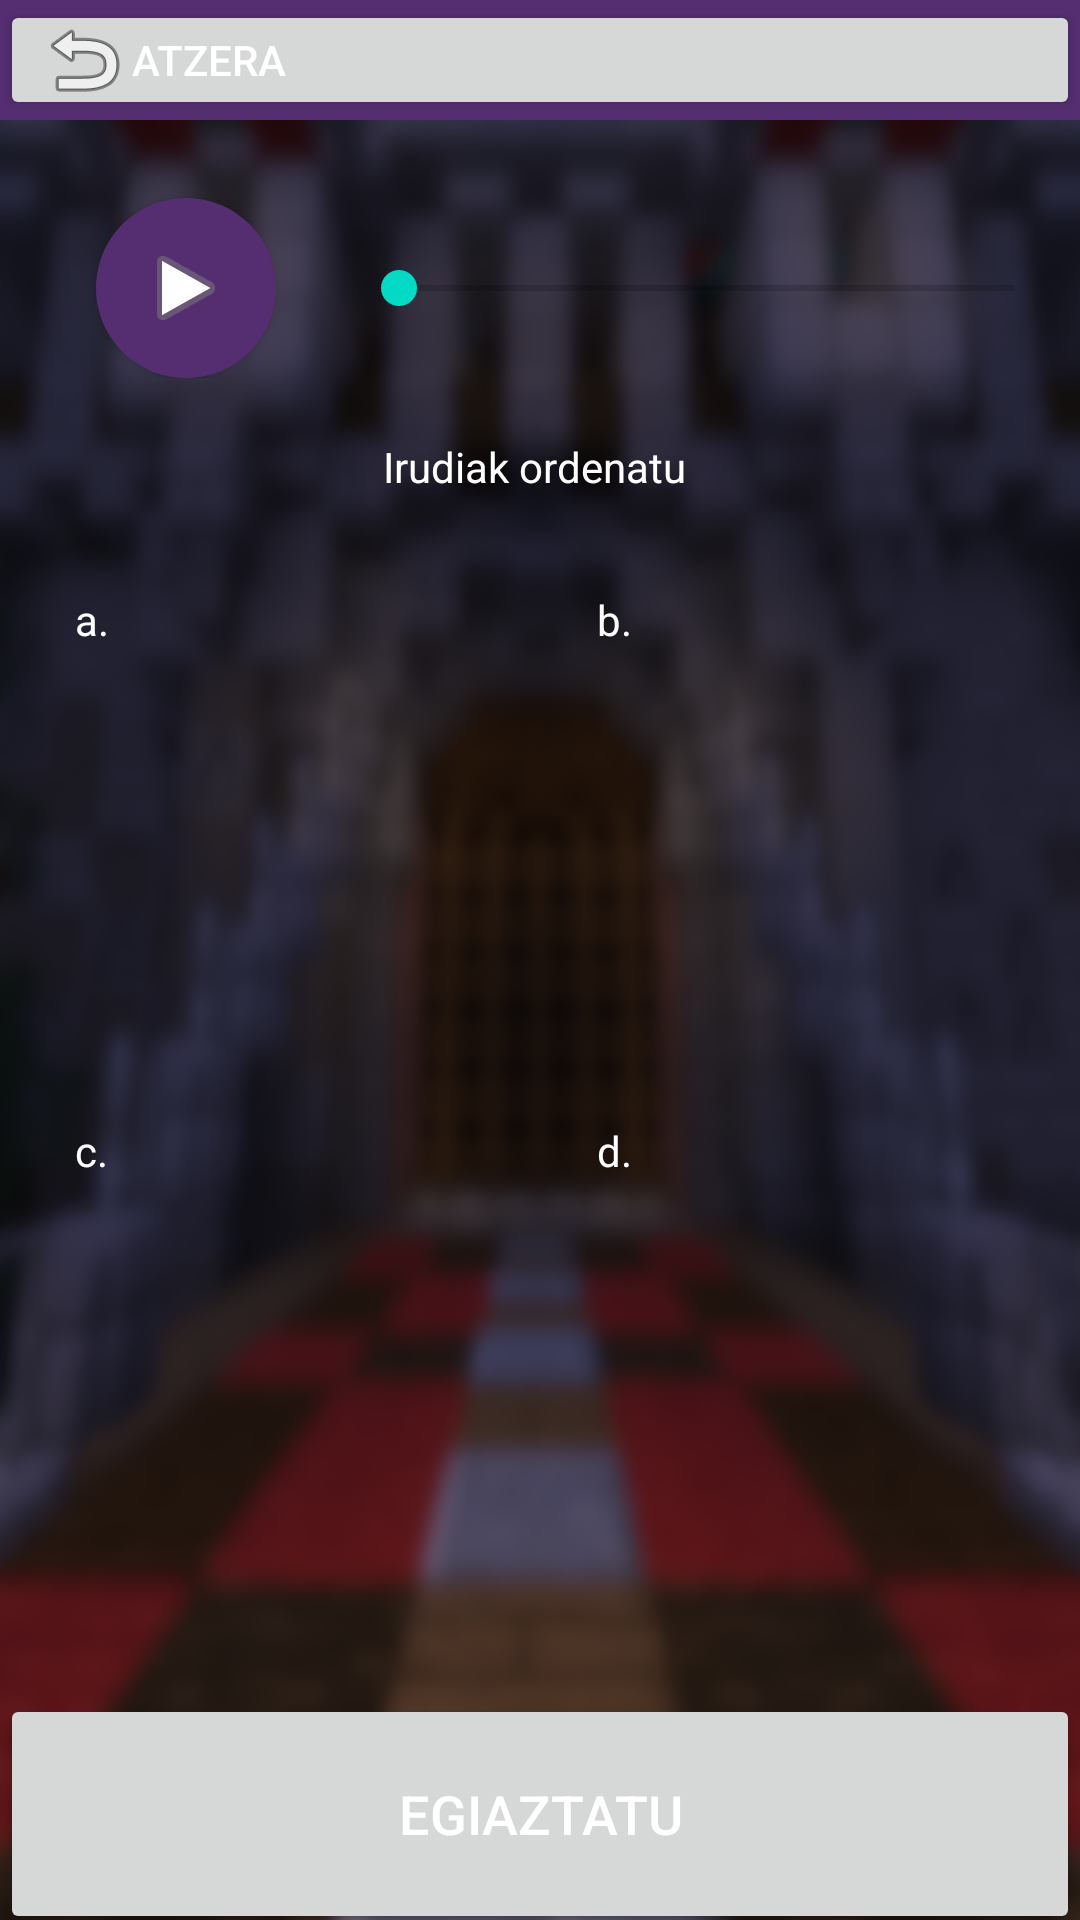

Where to tap for icons on this 1080 × 1920 app screen, as point (x, y):
play: point (186, 288)
